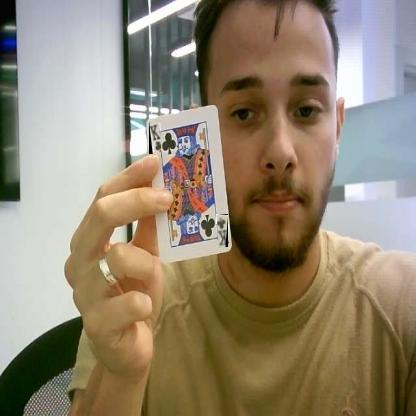KC: (149, 120, 161, 154), (217, 214, 228, 247)
